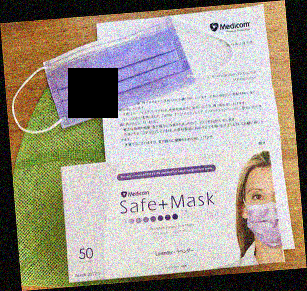with_mask: (246, 186, 280, 250)
